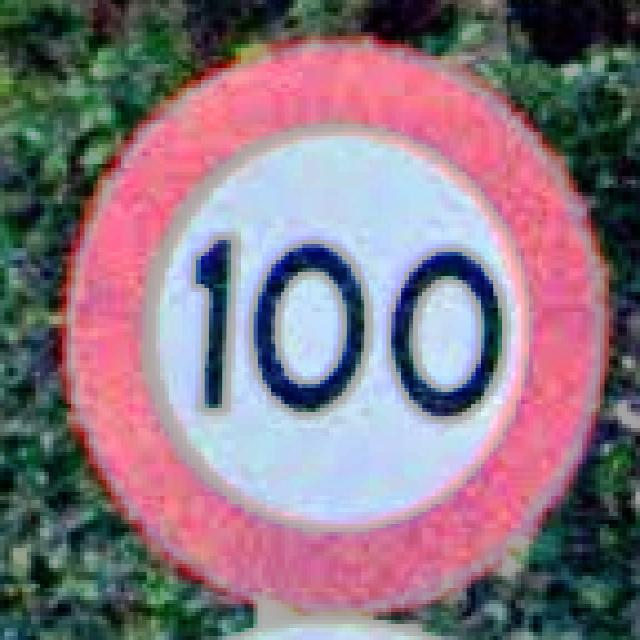max100: (58, 32, 609, 612)
